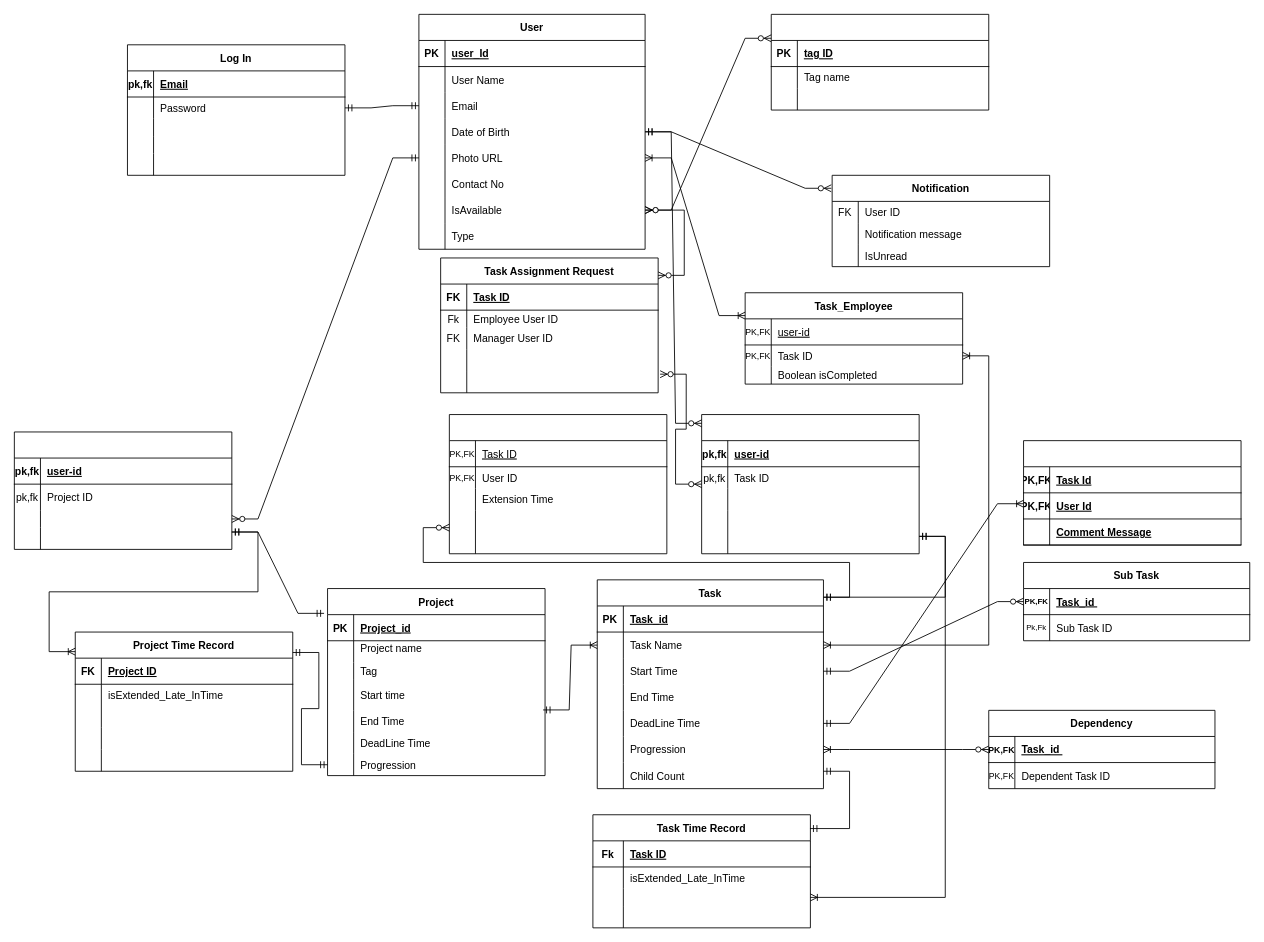
This 1264x942 diagram has some shape labels left out. Here are the shapes that lost their labels. From the top down, the box of each, then its label:
(770, 13, 989, 110): Tags
(13, 431, 232, 549): Project_Manager
(448, 414, 667, 554): Task Extension Request
(701, 414, 919, 554): Task_Manager
(1023, 440, 1241, 545): Comments
